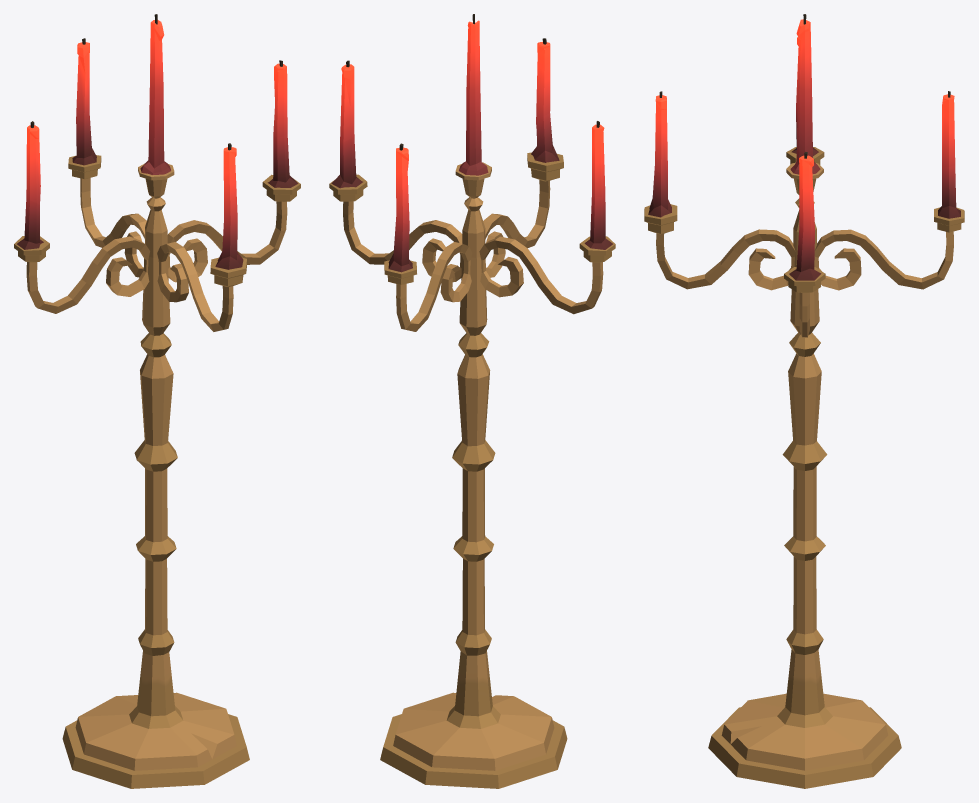
File: crypt_candelabra.gltf
3 renders of one model, left to right at view 1: azimuth 30°, elevation 25°; view 2: azimuth 150°, elevation 25°; view 3: azimuth 270°, elevation 25°, orthographic.
Parts seen in each view (by area): view 1: crypt_candelabra; view 2: crypt_candelabra; view 3: crypt_candelabra.
Part boxes in pixels (x1,y1,x2,y2): crypt_candelabra: (14,14,300,788); crypt_candelabra: (329,14,615,788); crypt_candelabra: (644,14,964,788).
Size of the model in its own units: 0.6934 by 1.76 by 0.6961.
1 material, 1 textured.
